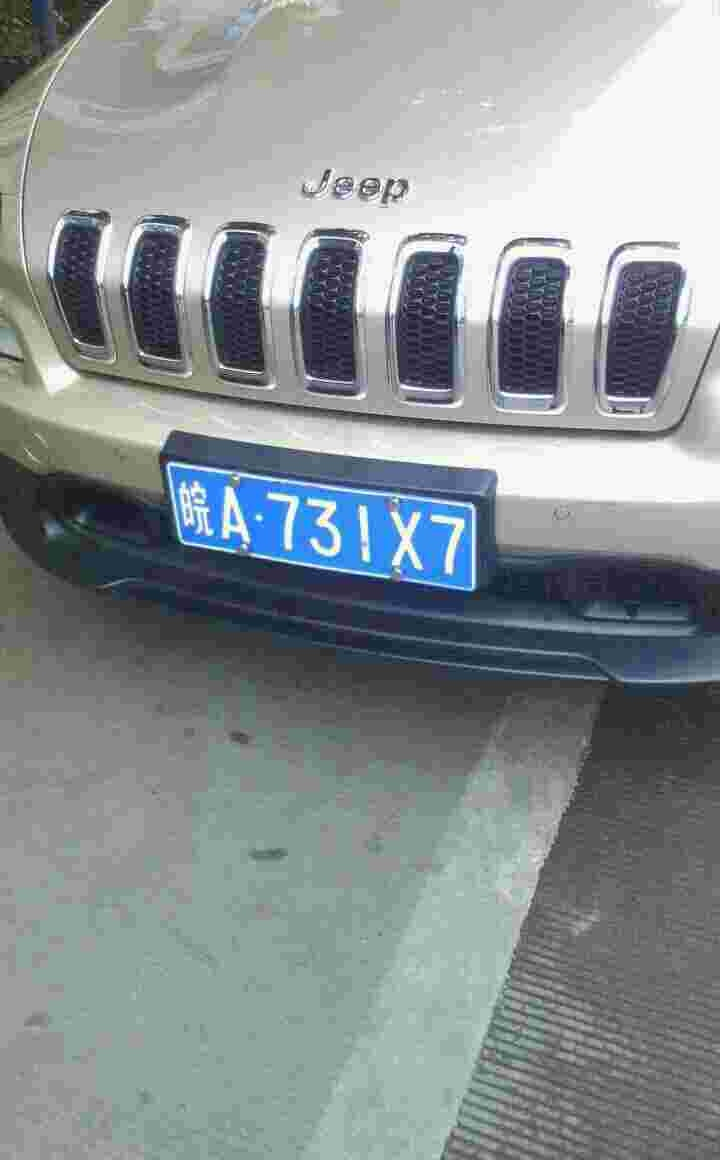license_plate: (177, 460, 493, 592)
